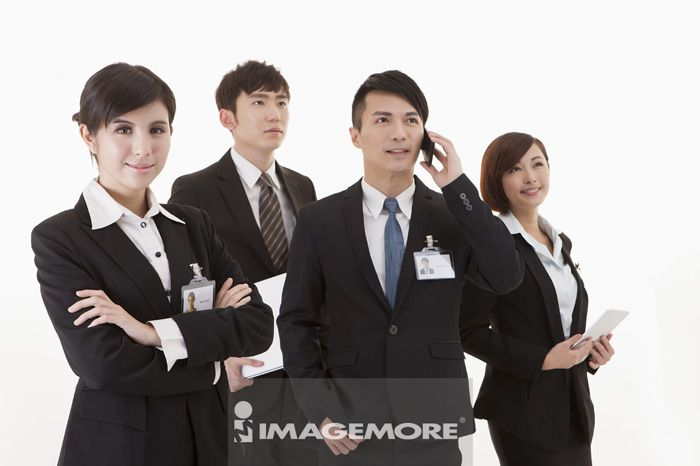talk: (370, 105, 459, 189)
